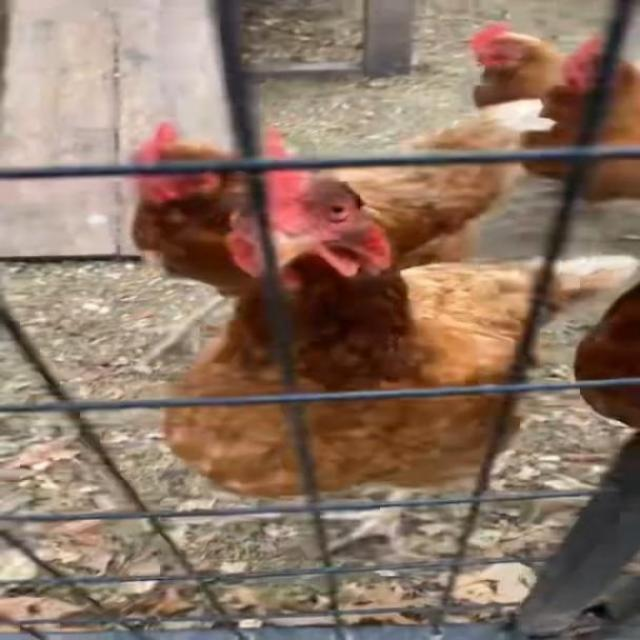Chicken: (162, 128, 638, 558), (128, 100, 560, 293), (520, 31, 640, 204), (579, 278, 640, 430), (469, 21, 566, 111)
